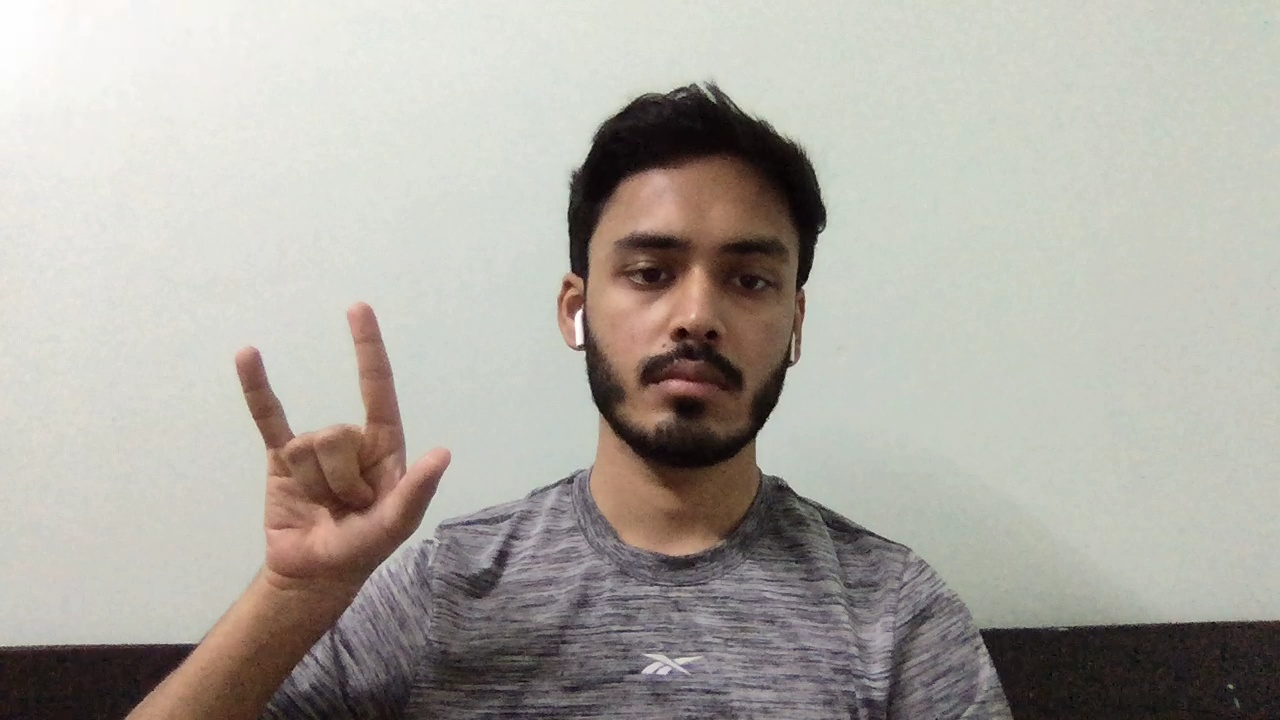I Love You: (222, 293, 460, 588)
